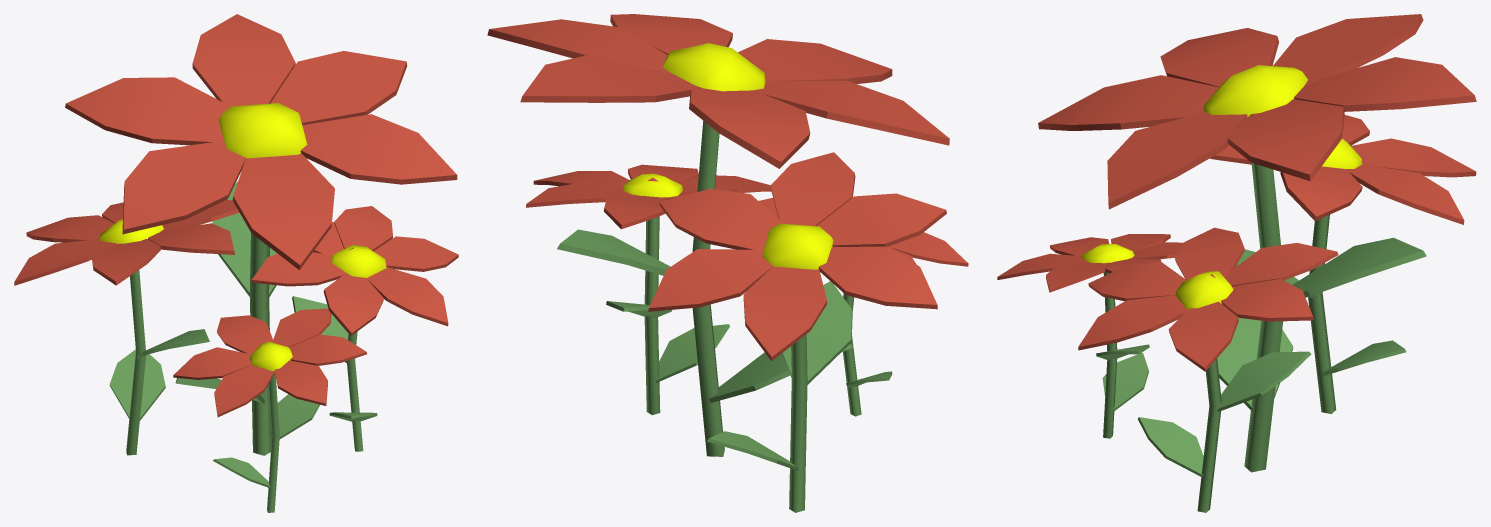
Rendered from SM_Flowers_03.fbx.
3 views of the same model, side by side, from view 1: azimuth 30°, elevation 25°; view 2: azimuth 150°, elevation 25°; view 3: azimuth 270°, elevation 25° (orthographic). The views are drawn at different scales.
Parts seen in each view (by area): view 1: SM_Flowers_03; view 2: SM_Flowers_03; view 3: SM_Flowers_03.
Part boxes in pixels (x1,y1,x2,y2): SM_Flowers_03: [14, 14, 458, 512]; SM_Flowers_03: [487, 14, 968, 512]; SM_Flowers_03: [997, 14, 1476, 512].
Size of the model in its own units: 46.8 by 40.39 by 42.45.
